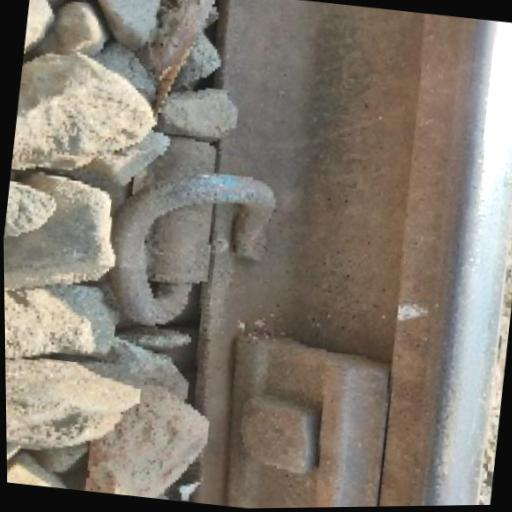erc_good: (113, 136, 275, 321)
